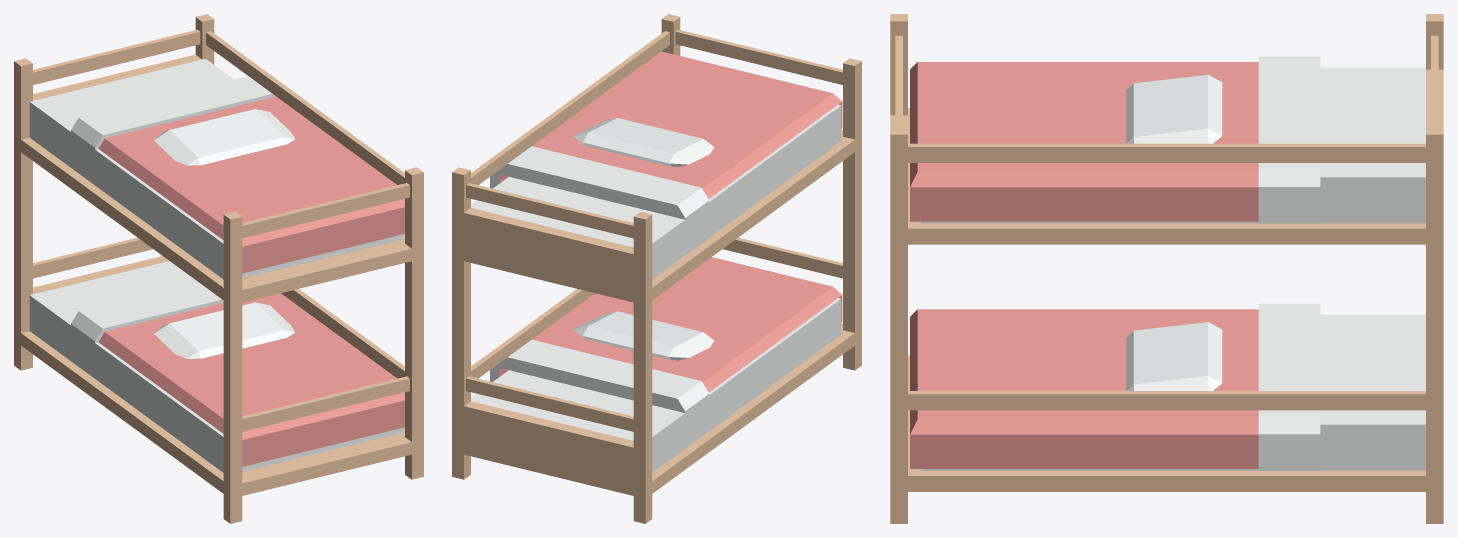
Rendered from bedBunk.glb.
3 renders of one model, left to right at view 1: azimuth 30°, elevation 25°; view 2: azimuth 150°, elevation 25°; view 3: azimuth 270°, elevation 25°, orthographic. The views are drawn at different scales.
Parts seen in each view (by area): view 1: bedBunk, bedBunk.002, bedBunk.001, bedBunk.004, bedBunk.003; view 2: bedBunk, bedBunk.002, bedBunk.001, bedBunk.004, bedBunk.003; view 3: bedBunk, bedBunk.001, bedBunk.002, bedBunk.004, bedBunk.003.
Part boxes in pixels (<box>): bedBunk: <box>14,14,423,523</box>; bedBunk.002: <box>71,76,404,273</box>; bedBunk.001: <box>71,282,404,466</box>; bedBunk.004: <box>154,109,294,165</box>; bedBunk.003: <box>154,302,294,358</box>; bedBunk: <box>452,14,861,523</box>; bedBunk.002: <box>490,51,842,246</box>; bedBunk.001: <box>490,257,842,439</box>; bedBunk.004: <box>573,118,713,166</box>; bedBunk.003: <box>573,311,714,360</box>; bedBunk: <box>890,14,1443,523</box>; bedBunk.001: <box>910,303,1320,470</box>; bedBunk.002: <box>910,56,1320,223</box>; bedBunk.004: <box>1126,74,1222,143</box>; bedBunk.003: <box>1126,322,1222,390</box>.
Bounding box in the file's own units: 1.73 × 2.46 × 3.18.
